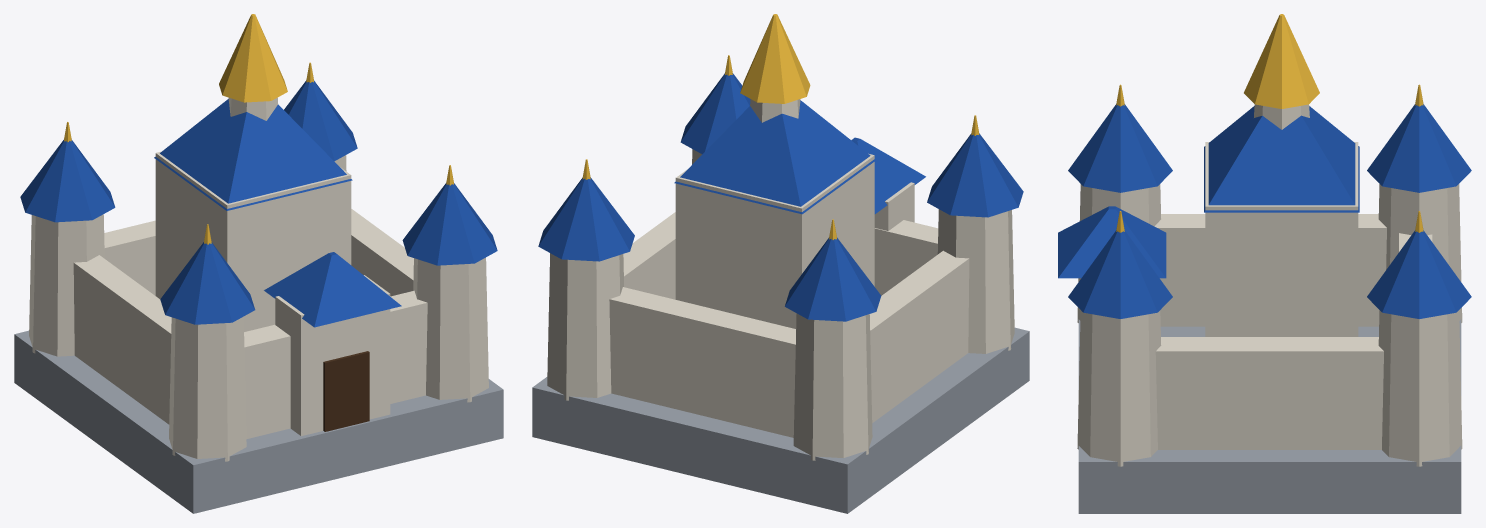
The model's file is castle_haven.glb.
3 renders of one model, left to right at view 1: azimuth 30°, elevation 25°; view 2: azimuth 150°, elevation 25°; view 3: azimuth 270°, elevation 25°, orthographic. The views are drawn at different scales.
Visible parts, largest first — view 1: castle_haven; view 2: castle_haven; view 3: castle_haven.
Boxes of the visible parts, x1,y1,x2,y2 form: castle_haven: (14, 14, 503, 513); castle_haven: (532, 14, 1029, 513); castle_haven: (1058, 14, 1471, 513).
Bounding box in the file's own units: 3.38 × 3.86 × 3.46.
